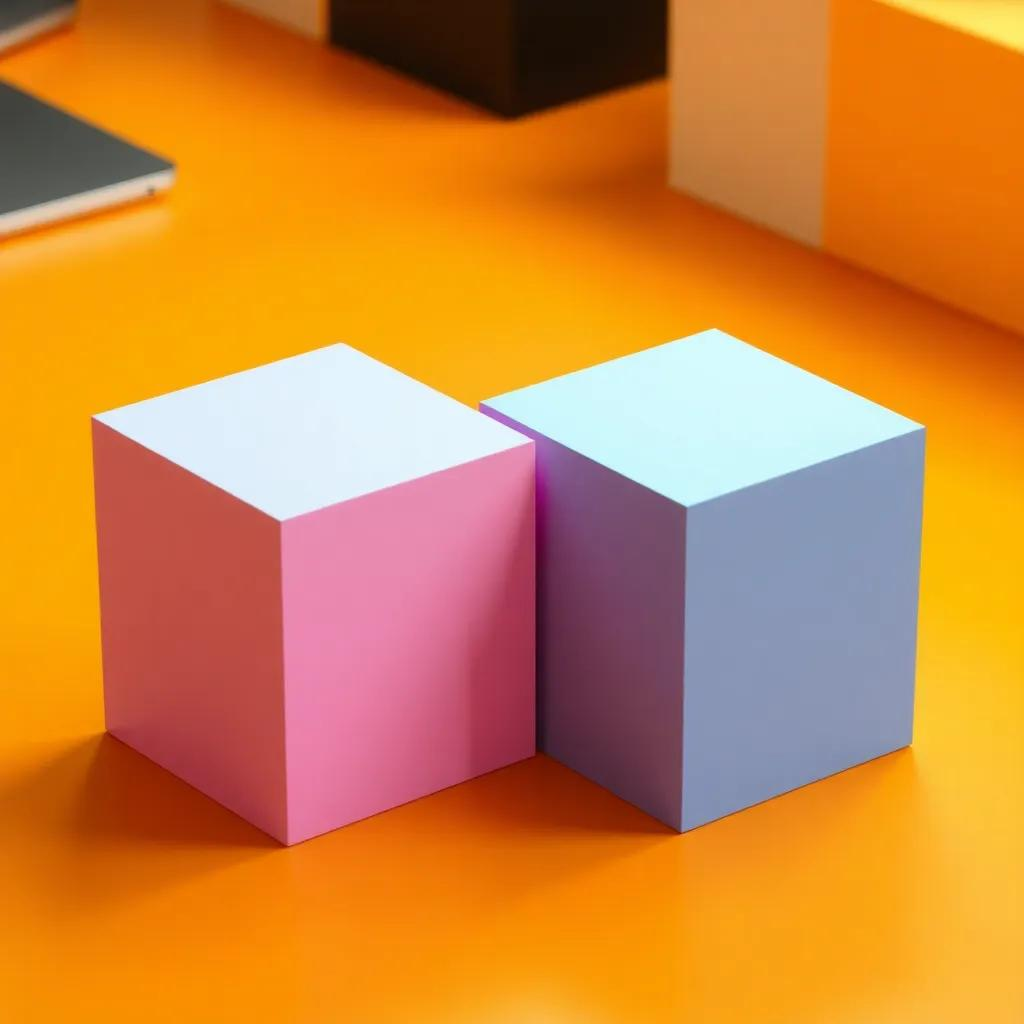cube: (477, 325, 926, 834), (89, 339, 538, 847)
